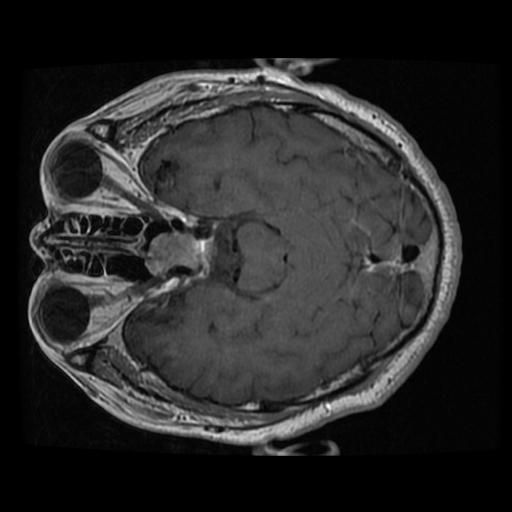pituitary tumour: (146, 231, 211, 273)
